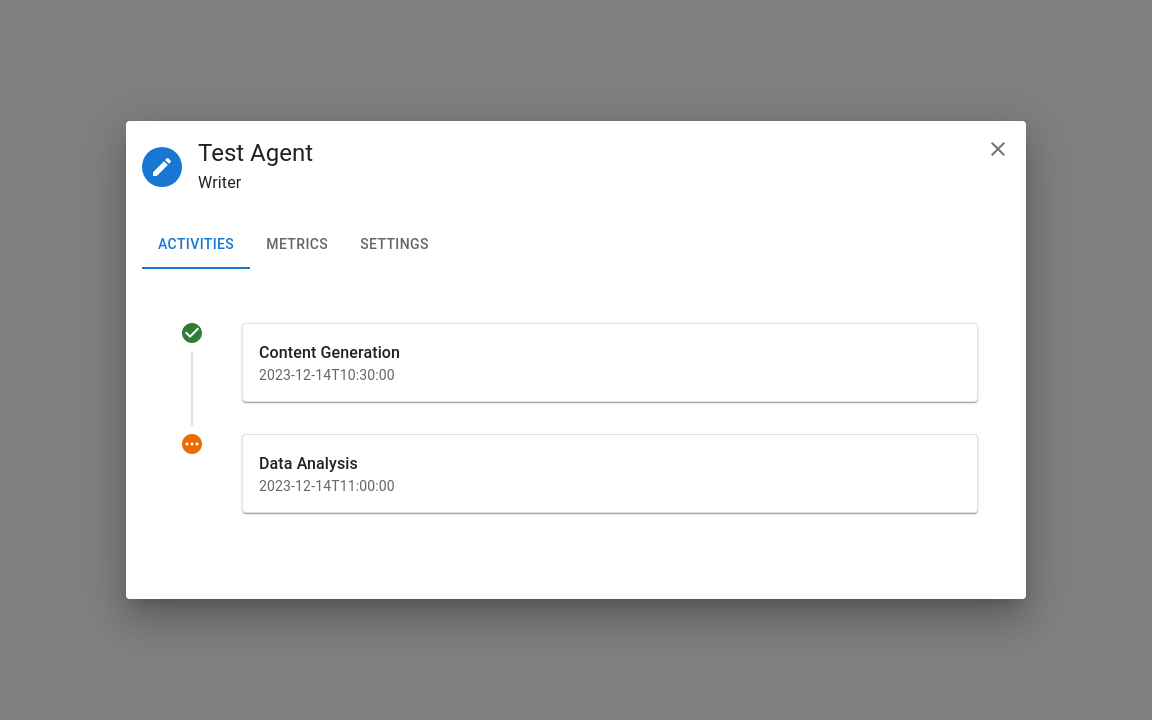
Test: AgentDetails Settings Panel › allows adjusting temperature slider
// Navigate to settings tab
Click the tab "Settings" at (394, 245), box [344,221,445,269]
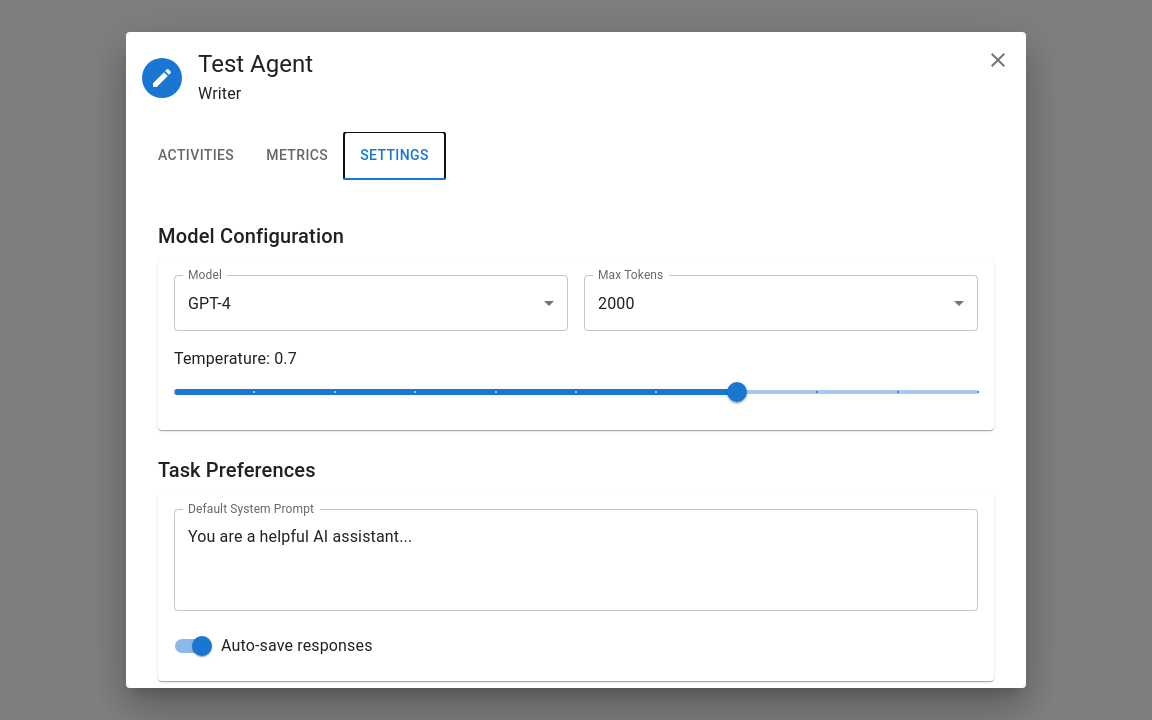
Expected: the slider holds "0.7", [727,382,747,402]
